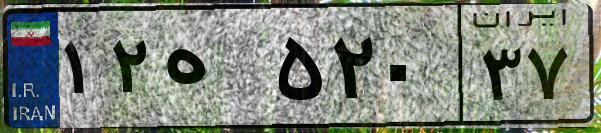0: (385, 28, 445, 110)
1: (57, 26, 110, 100)
2: (330, 28, 385, 110), (110, 28, 158, 98)
3: (475, 38, 525, 113)
5: (270, 28, 330, 110)
7: (525, 38, 570, 115)
ه: (158, 20, 270, 120)
